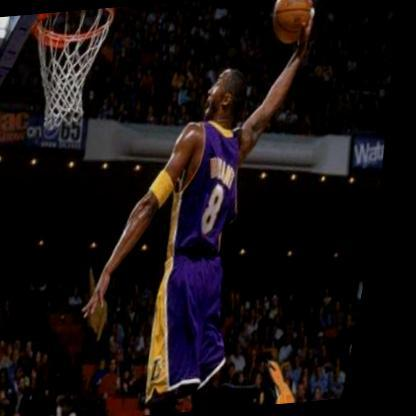basketball: (266, 0, 315, 47)
rim: (22, 8, 125, 132)
